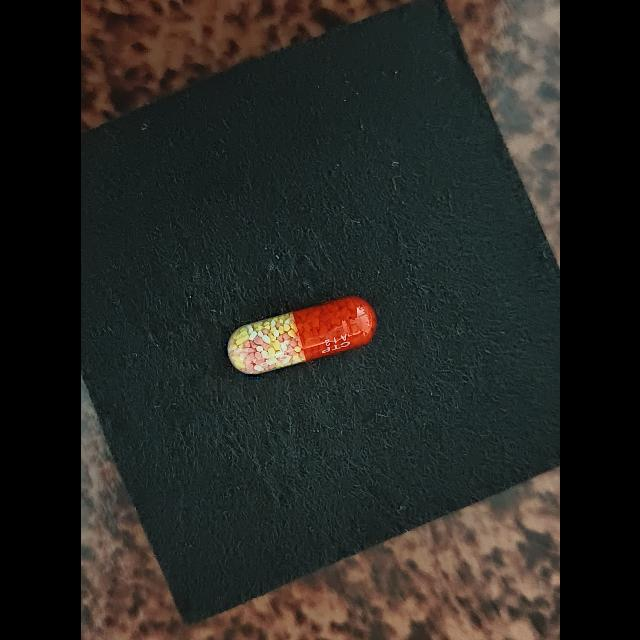Intact Capsule: (226, 296, 377, 374)
